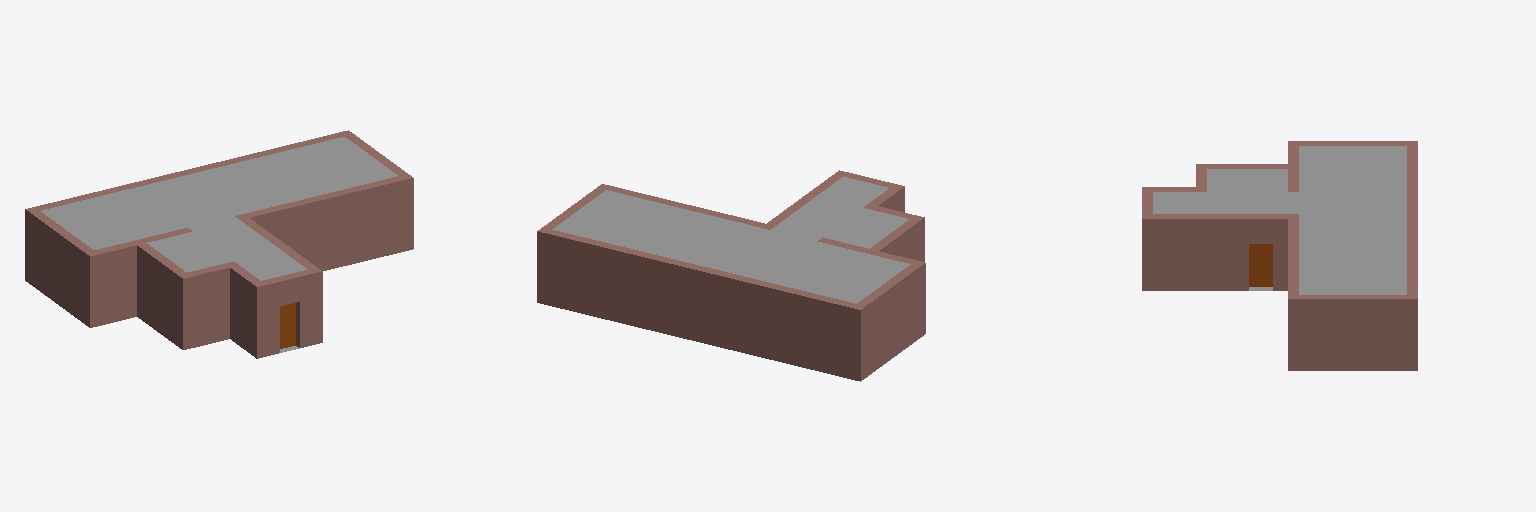
Rendered from OBJ_Layout1.obj.
3 views of the same model, side by side, from view 1: azimuth 30°, elevation 25°; view 2: azimuth 150°, elevation 25°; view 3: azimuth 270°, elevation 25° (orthographic).
Visible parts, largest first — view 1: Ceiling_Plane.024, Building_Wall.000_Plane.005, Building_Wall.004_Plane.013, Building_Wall.006_Plane.015, Building_Wall.005_Plane.014, Building_Wall.003_Plane.008, Building_Arch.000_Plane.025, Building_Wall.007_Plane.016, Building_Corner.003_Plane.009, Building_Corner.009_Plane.020, Building_Wall.001_Plane.006, Building_Corner.008_Plane.019 (+3 smaller); view 2: Ceiling_Plane.024, Building_Wall.001_Plane.006, Building_Wall.002_Plane.007, Building_Wall.004_Plane.013, Building_Wall.005_Plane.014, Building_Corner.006_Plane.012, Building_Wall.000_Plane.005, Building_Corner.005_Plane.011; view 3: Ceiling_Plane.024, Building_Wall.009_Plane.021, Building_Wall.008_Plane.017, Building_Arch.002_Plane.027, Building_Wall.010_Plane.023, Building_Door_000.001_Door.001, Building_Wall.001_Plane.006, Building_Corner.008_Plane.019, Building_Corner.007_Plane.018, Building_Corner.005_Plane.011, Building_Corner.004_Plane.010, Building_Wall.000_Plane.005 (+2 smaller).
Boxes of the visible parts, x1,y1,x2,y2 form: Ceiling_Plane.024: [41, 137, 397, 280]; Building_Wall.000_Plane.005: [245, 176, 403, 270]; Building_Wall.004_Plane.013: [31, 211, 93, 323]; Building_Wall.006_Plane.015: [178, 264, 229, 349]; Building_Wall.005_Plane.014: [137, 243, 186, 345]; Building_Wall.003_Plane.008: [94, 230, 183, 325]; Building_Arch.000_Plane.025: [262, 270, 312, 356]; Building_Wall.007_Plane.016: [230, 265, 259, 354]; Building_Corner.003_Plane.009: [85, 251, 99, 327]; Building_Corner.009_Plane.020: [252, 281, 265, 358]; Building_Wall.001_Plane.006: [162, 133, 344, 179]; Building_Corner.008_Plane.019: [308, 267, 322, 344]; Ceiling_Plane.024: [552, 177, 910, 303]; Building_Wall.001_Plane.006: [547, 230, 729, 348]; Building_Wall.002_Plane.007: [725, 273, 855, 378]; Building_Wall.004_Plane.013: [857, 264, 919, 377]; Building_Wall.005_Plane.014: [870, 219, 918, 260]; Building_Corner.006_Plane.012: [851, 304, 865, 381]; Building_Wall.000_Plane.005: [607, 186, 764, 227]; Building_Corner.005_Plane.011: [537, 227, 551, 304]; Ceiling_Plane.024: [1153, 146, 1406, 294]; Building_Wall.009_Plane.021: [1299, 295, 1406, 370]; Building_Wall.008_Plane.017: [1153, 214, 1195, 290]; Building_Arch.002_Plane.027: [1234, 214, 1287, 290]; Building_Wall.010_Plane.023: [1207, 214, 1233, 290]; Building_Door_000.001_Door.001: [1249, 244, 1272, 286]; Building_Wall.001_Plane.006: [1407, 208, 1417, 294]; Building_Corner.008_Plane.019: [1142, 214, 1152, 290]; Building_Corner.007_Plane.018: [1196, 214, 1206, 290]; Building_Corner.005_Plane.011: [1407, 295, 1417, 370]; Building_Corner.004_Plane.010: [1288, 295, 1298, 370]; Building_Wall.000_Plane.005: [1288, 219, 1298, 294].
Size of the model in its own units: 13.8 by 2.92 by 10.2.